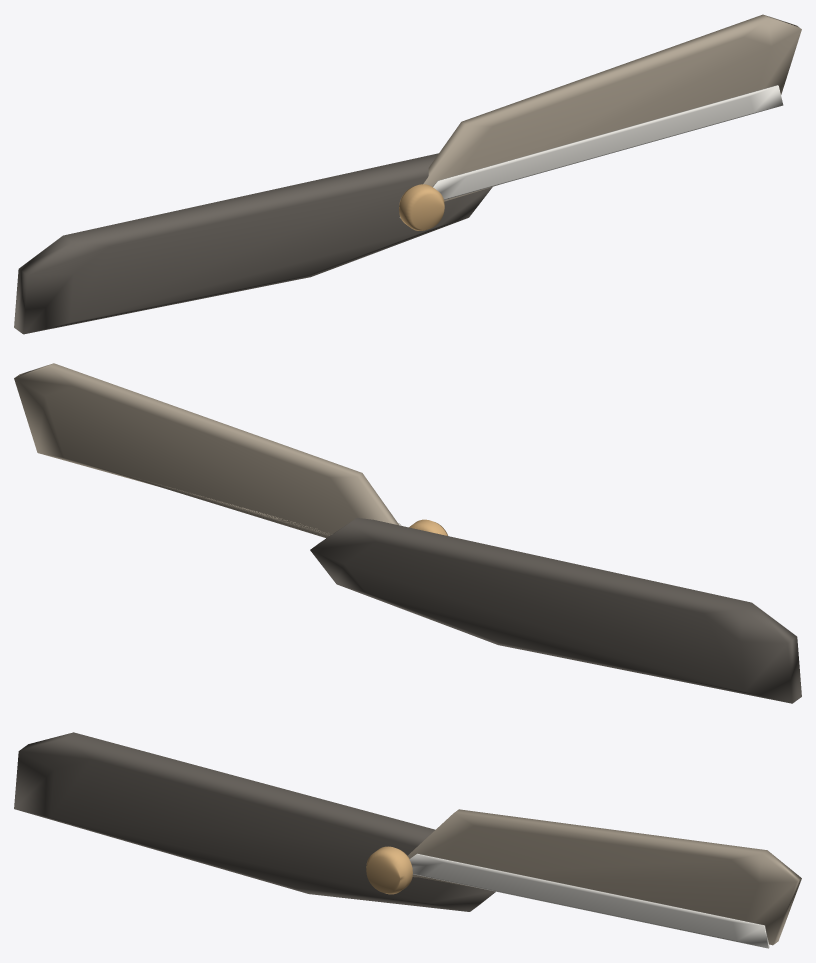
Rendered from straight-razor.glb.
3 views of the same model, one above another, from view 1: azimuth 30°, elevation 25°; view 2: azimuth 150°, elevation 25°; view 3: azimuth 330°, elevation 25° (orthographic). The views are drawn at different scales.
Size of the model in its own units: 5.04 by 0.96 by 0.415.
